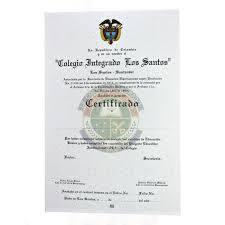certificado: (43, 11, 181, 215)
escudo de colombia: (93, 16, 127, 46)
firma: (133, 166, 172, 188), (51, 167, 91, 187)
institucion: (50, 55, 174, 70)
